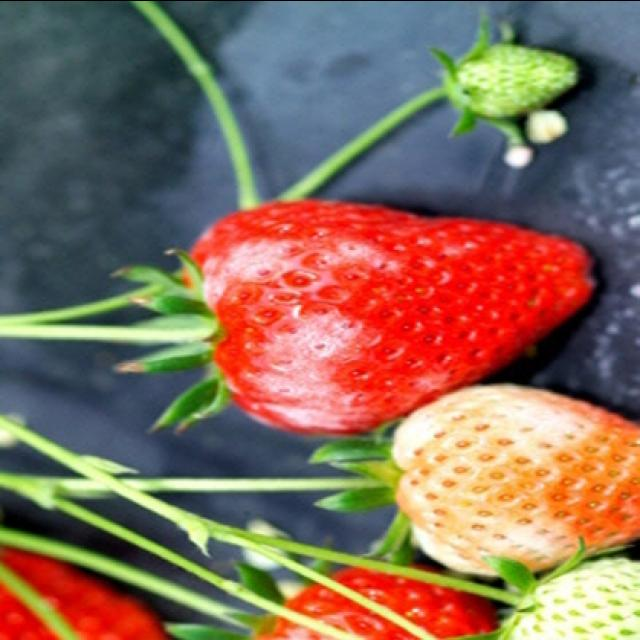Powdery Mildew Fruit: (182, 195, 480, 435)
